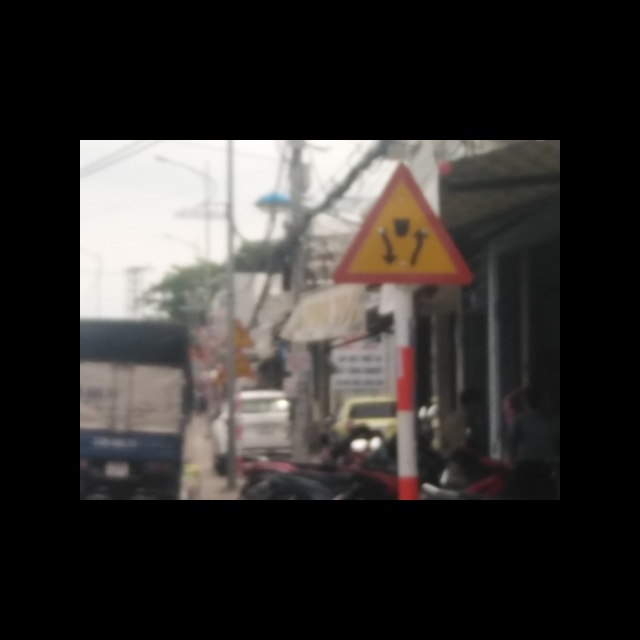Đường đôi: (331, 159, 473, 285)
